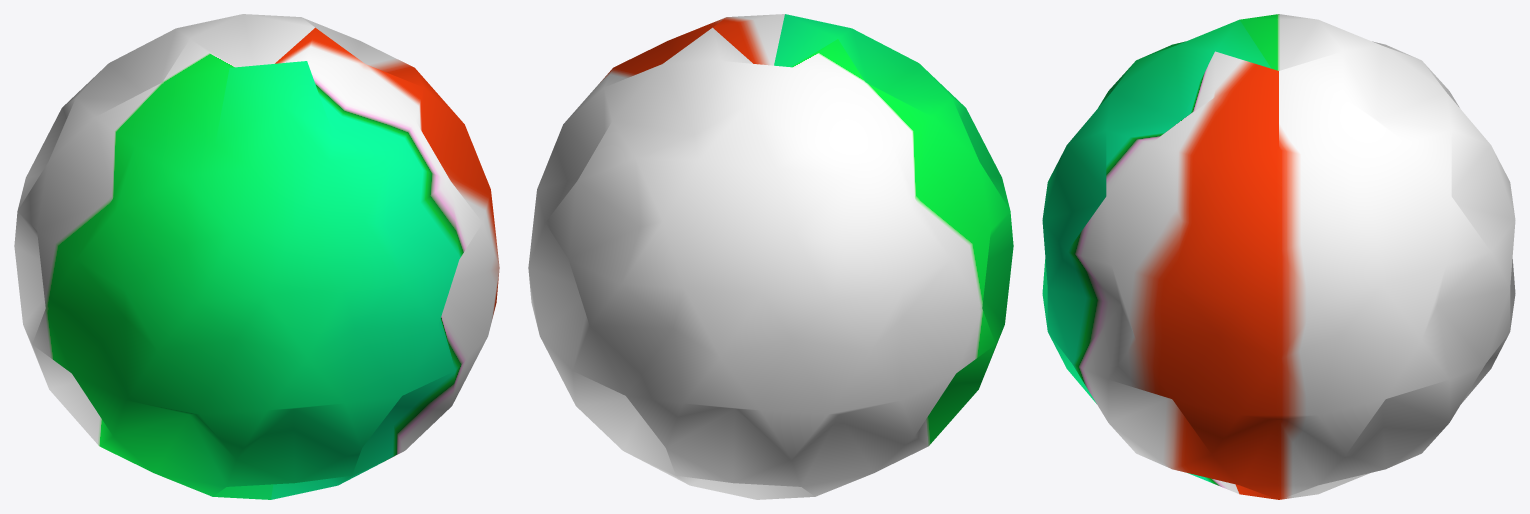
Rendered from GlobuleBlanc.FBX.
The picture shows the model from 3 angles, left to right: view 1: azimuth 30°, elevation 25°; view 2: azimuth 150°, elevation 25°; view 3: azimuth 270°, elevation 25°; orthographic projection.
Parts seen in each view (by area): view 1: GlobuleBlanc; view 2: GlobuleBlanc; view 3: GlobuleBlanc.
Boxes of the visible parts, x1,y1,x2,y2 form: GlobuleBlanc: [14, 14, 499, 499]; GlobuleBlanc: [528, 14, 1013, 499]; GlobuleBlanc: [1042, 14, 1515, 499].
Bounding box in the file's own units: 15.36 × 14.95 × 14.95.
1 material, 1 textured.
